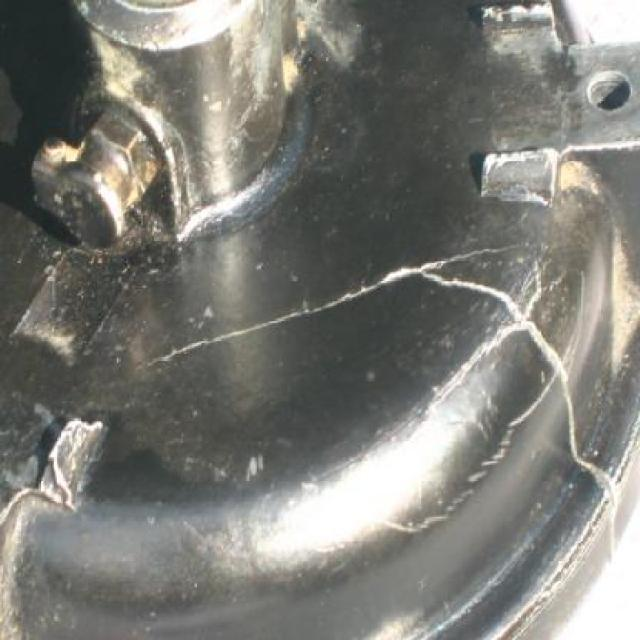crack: (132, 248, 620, 569)
